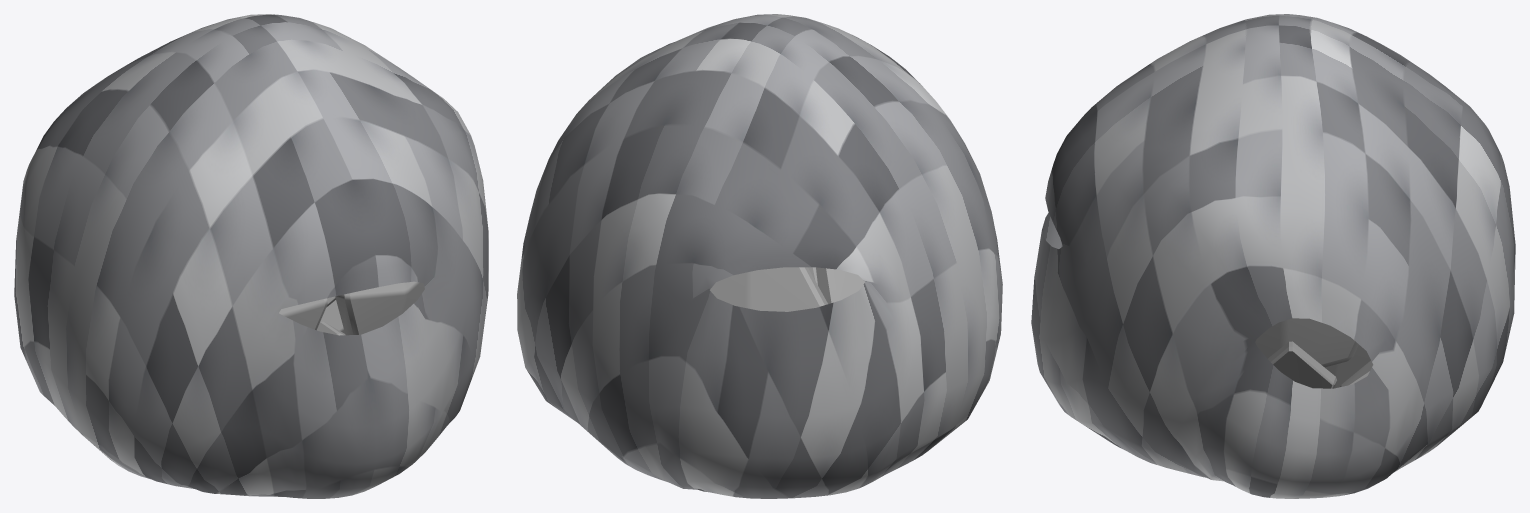
File: tree boss.fbx
3 renders of one model, left to right at view 1: azimuth 30°, elevation 25°; view 2: azimuth 150°, elevation 25°; view 3: azimuth 270°, elevation 25°, orthographic.
Parts seen in each view (by area): view 1: pDisc1, polySurface11, polySurface9; view 2: pDisc1, polySurface6, polySurface1; view 3: pDisc1, polySurface4, polySurface9.
Boxes of the visible parts, <box> form: pDisc1: <box>14,14,488,498</box>; polySurface11: <box>279,281,424,335</box>; polySurface9: <box>317,300,345,335</box>; pDisc1: <box>517,14,1002,498</box>; polySurface6: <box>710,267,827,311</box>; polySurface1: <box>816,267,864,303</box>; pDisc1: <box>1031,14,1515,498</box>; polySurface4: <box>1255,318,1358,367</box>; polySurface9: <box>1268,341,1373,388</box>.
Bounding box in the file's own units: 642 × 667 × 670.
Materials: 3 (1 with a texture image).
